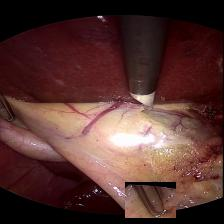Grasper: (125, 180, 176, 216), (0, 92, 15, 124)
Hook: (127, 87, 167, 115)
